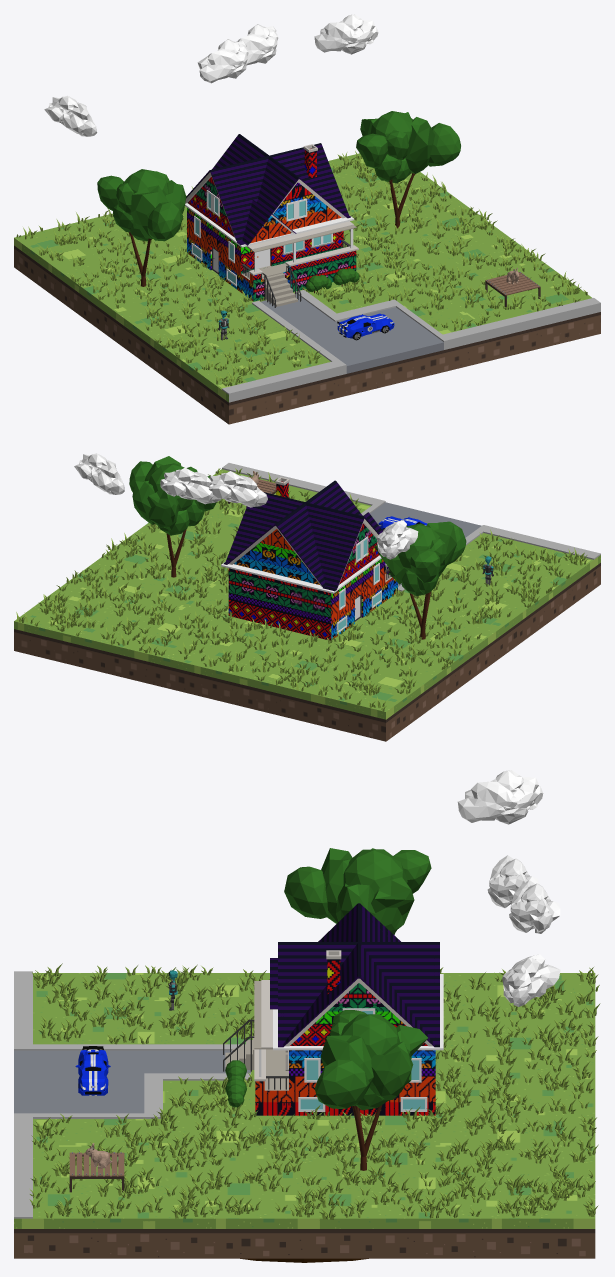
The picture shows the model from 3 angles, top to bottom: view 1: azimuth 30°, elevation 25°; view 2: azimuth 150°, elevation 25°; view 3: azimuth 270°, elevation 25°; orthographic projection. The views are drawn at different scales.
Visible parts, largest first — view 1: Cube.006, Cube.966, Circle.012_Grass_0.192, Cube.007, tree, tree.001, VEHICLES_RACING_CAR, Cube.009; view 2: Cube.006, Cube.966, Circle.012_Grass_0.192, Cube.007, tree.001, tree; view 3: Cube.006, Circle.012_Grass_0.192, Cube.966, tree, Cube.007, tree.001, VEHICLES_RACING_CAR, Cube.009.
Part boxes in pixels (<box>): Cube.006: <box>14,153,600,424</box>; Cube.966: <box>185,134,358,307</box>; Circle.012_Grass_0.192: <box>16,151,587,386</box>; Cube.007: <box>44,14,378,136</box>; tree: <box>356,111,460,228</box>; tree.001: <box>97,169,186,286</box>; VEHICLES_RACING_CAR: <box>337,313,394,340</box>; Cube.009: <box>485,272,540,306</box>; Cube.006: <box>14,463,600,741</box>; Cube.966: <box>221,477,397,640</box>; Circle.012_Grass_0.192: <box>16,468,587,711</box>; Cube.007: <box>74,453,418,559</box>; tree.001: <box>374,521,466,639</box>; tree: <box>129,456,216,577</box>; Cube.006: <box>14,971,595,1258</box>; Circle.012_Grass_0.192: <box>29,963,600,1219</box>; Cube.966: <box>223,903,443,1115</box>; tree: <box>314,1010,427,1170</box>; Cube.007: <box>457,770,560,1006</box>; tree.001: <box>284,848,431,934</box>; VEHICLES_RACING_CAR: <box>75,1046,110,1095</box>; Cube.009: <box>69,1152,124,1192</box>.
Size of the model in its own units: 4071 by 2242 by 4040.
45 materials, 7 textured.
